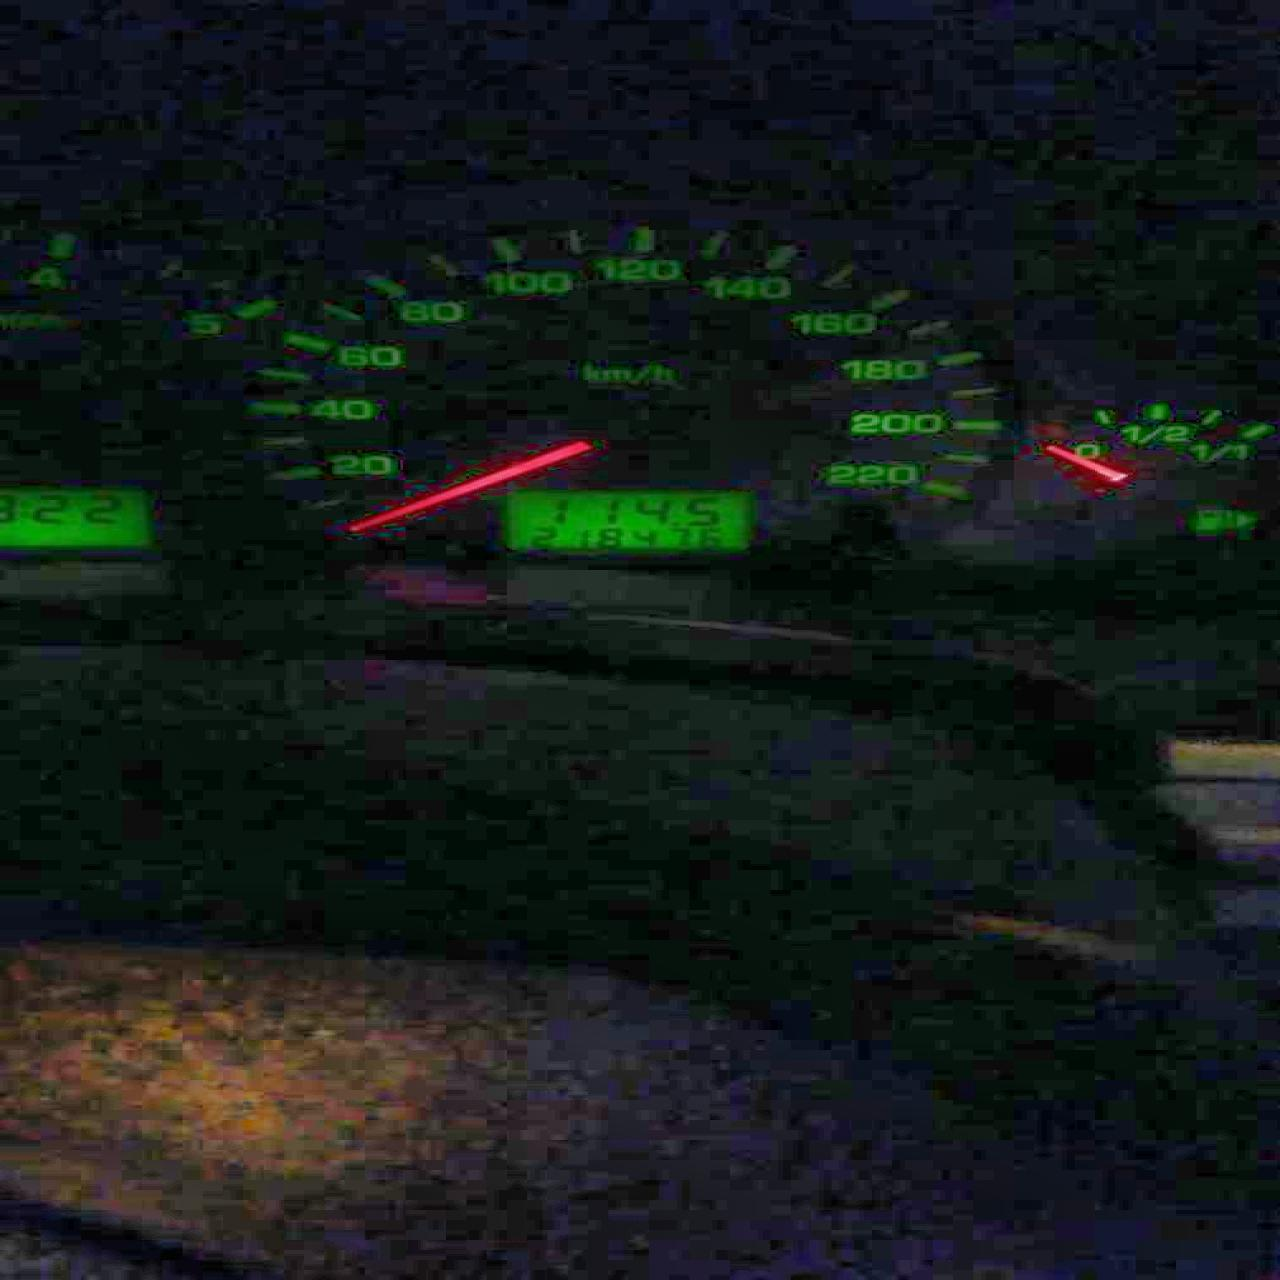-: (669, 519, 679, 525)
1: (604, 497, 621, 523), (553, 497, 570, 523), (576, 527, 591, 547)
2: (527, 526, 554, 546)
4: (632, 496, 667, 524), (626, 527, 656, 549)
5: (682, 496, 720, 524)
6: (696, 526, 722, 546)
7: (667, 526, 689, 547)
8: (595, 526, 621, 546)
odometer: (502, 486, 750, 550)
